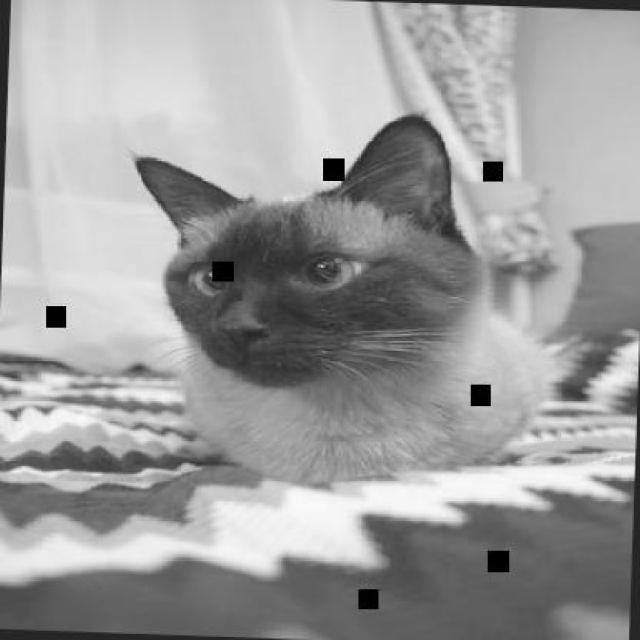cat: (120, 104, 558, 493)
